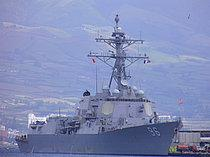MIL_Ship: (13, 29, 183, 157)
